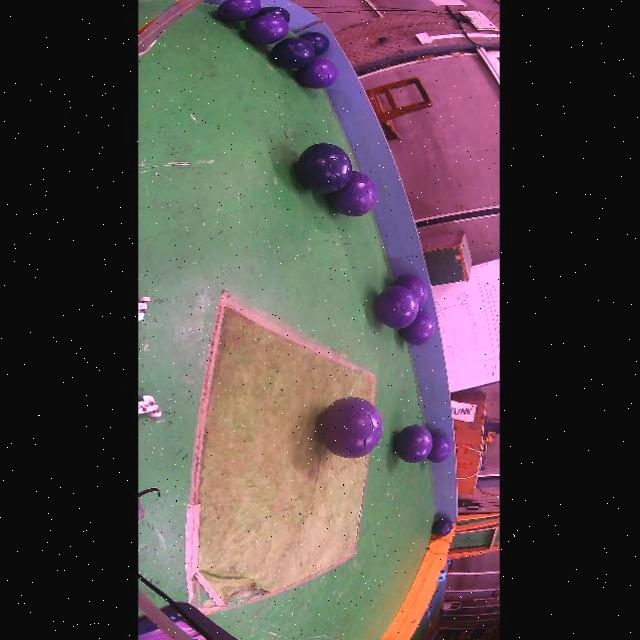B: (295, 143, 350, 194), (270, 38, 314, 68), (297, 31, 328, 55), (250, 6, 289, 23), (431, 518, 452, 537)
P: (317, 397, 382, 458), (328, 171, 377, 216), (373, 286, 417, 328), (393, 425, 432, 463), (243, 15, 287, 45), (398, 309, 433, 346), (296, 58, 336, 89), (391, 274, 427, 308), (216, 0, 260, 23), (426, 434, 450, 463)
